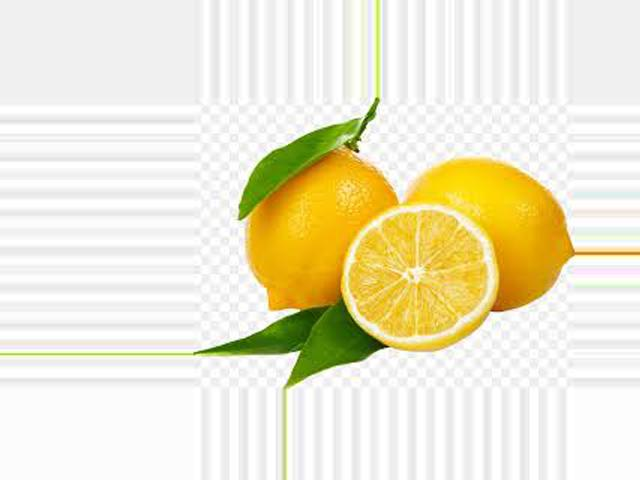lemon: (410, 159, 572, 324)
